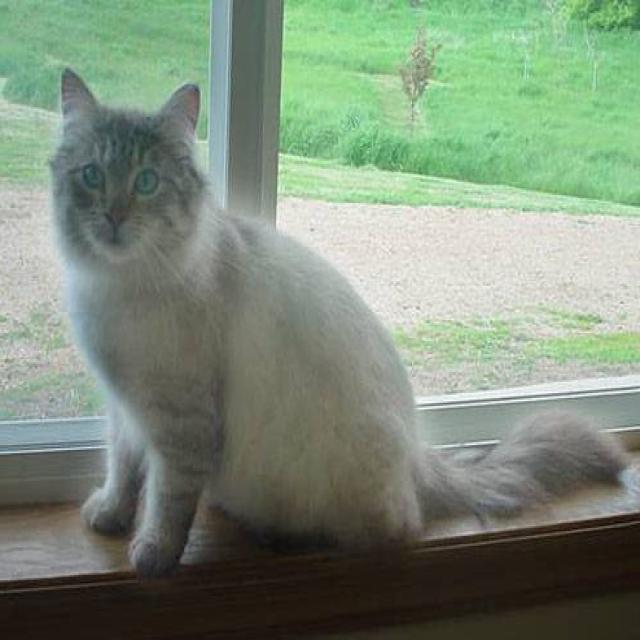Kucing: (0, 50, 623, 601)
